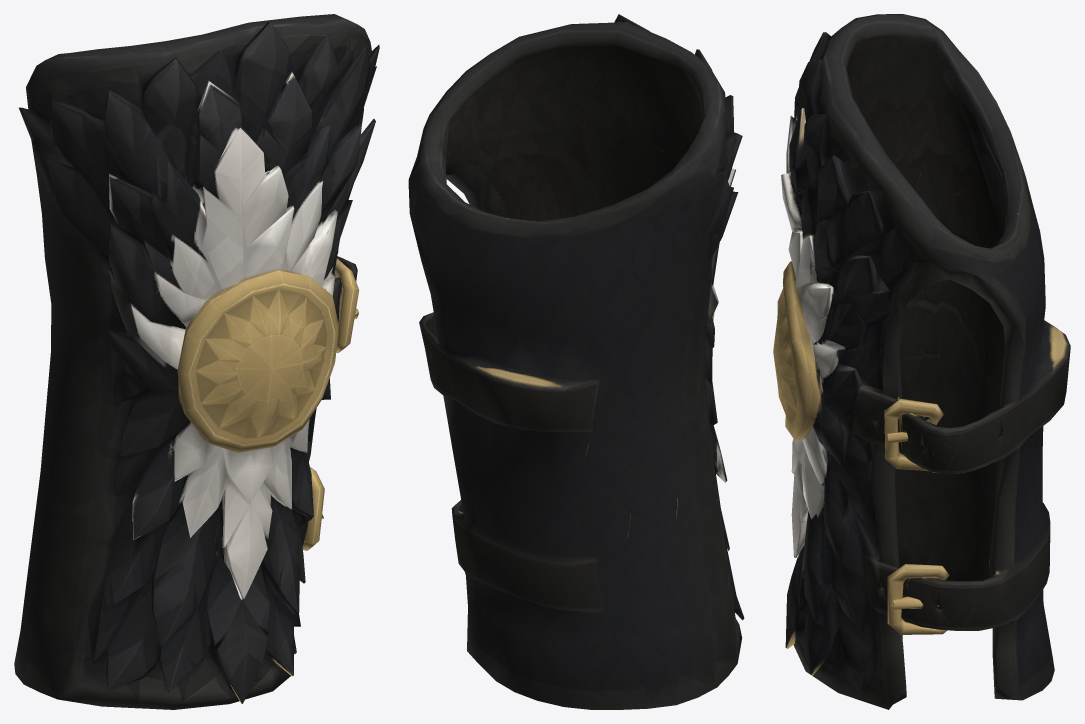
File: magpies-hoard-bracer-i1_i23d.glb
3 renders of one model, left to right at view 1: azimuth 30°, elevation 25°; view 2: azimuth 150°, elevation 25°; view 3: azimuth 270°, elevation 25°, orthographic. The views are drawn at different scales.
Size of the model in its own units: 0.5088 by 0.9521 by 0.4067.
1 material, 1 textured.
